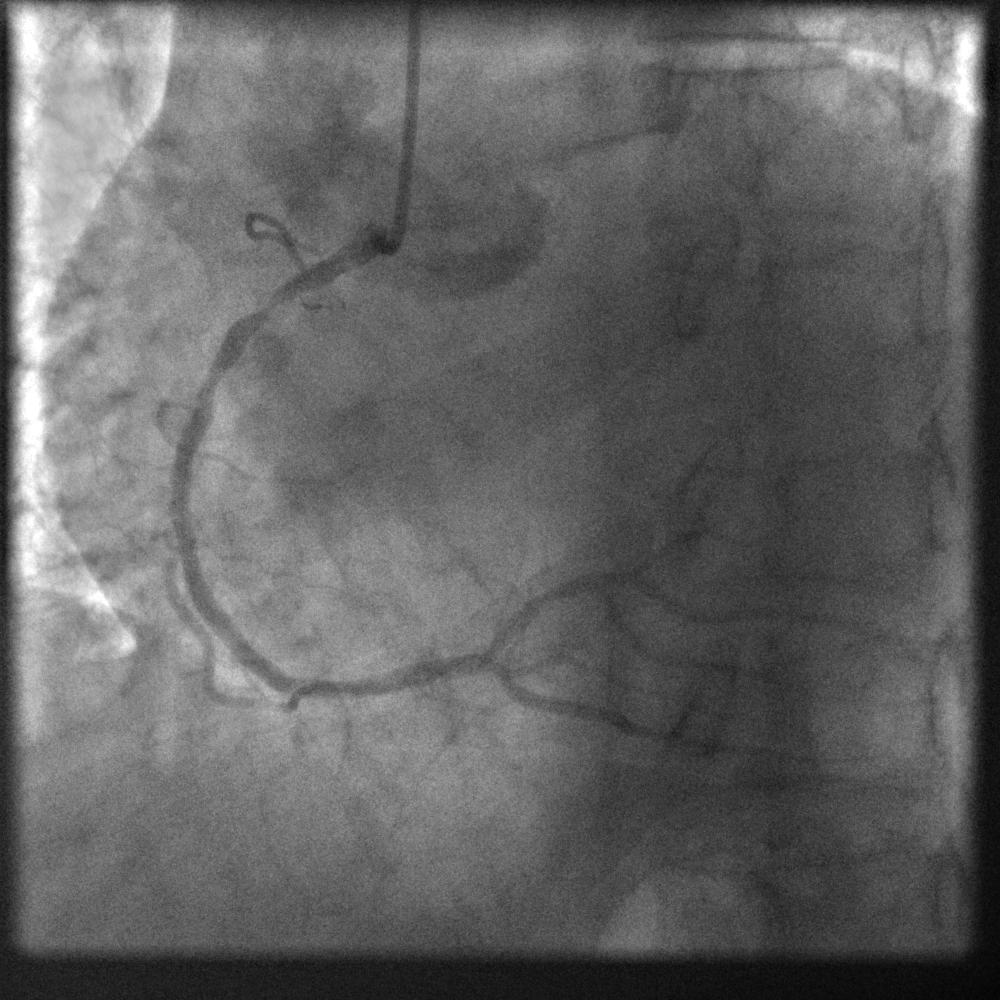Stenosis: (232, 294, 284, 337)
